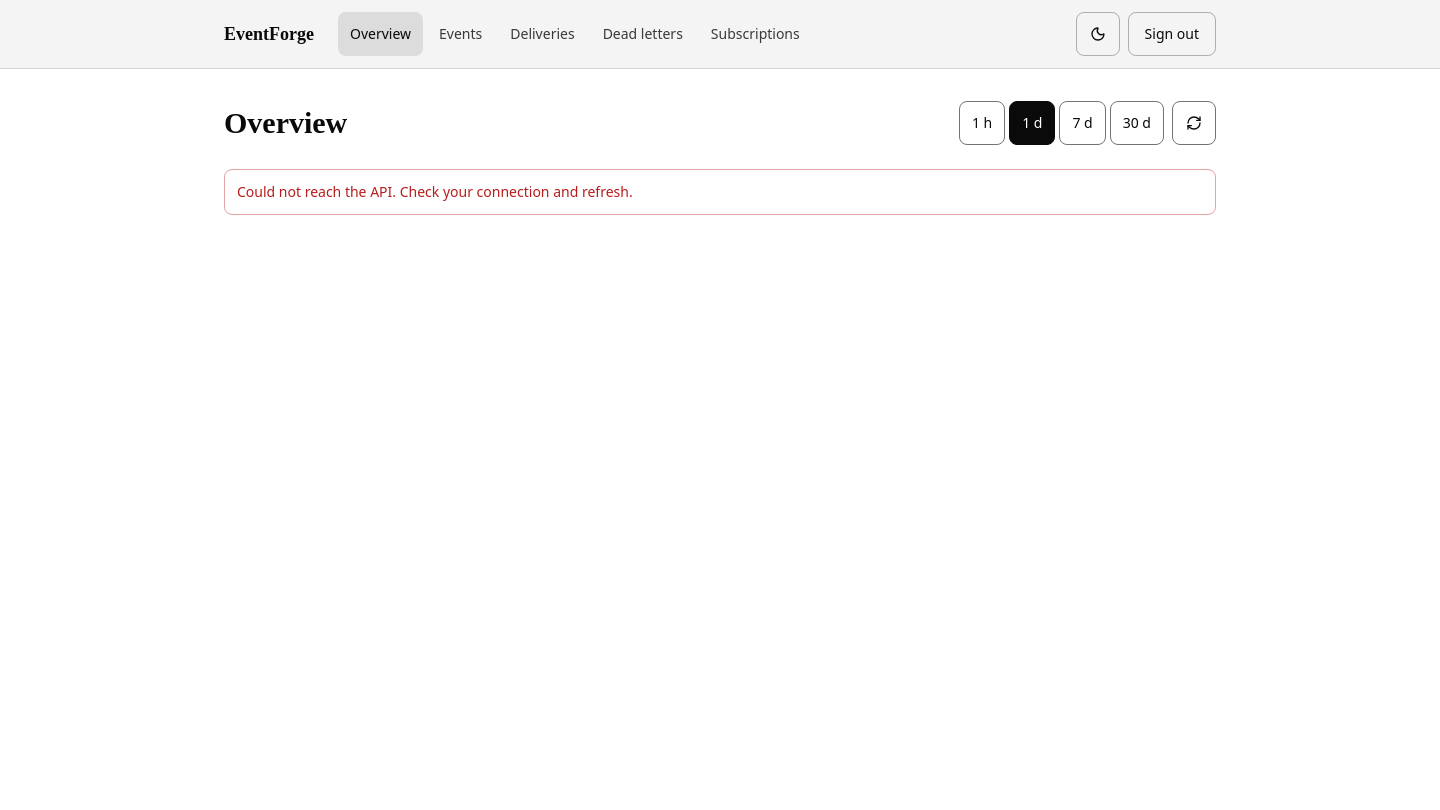
Test: Landing and login › skips the landing page when a key is already stored, and sign-out clears it
This screenshot has width=1440, height=810.
Expected: the heading "Overview" is shown, 224,105 -> 347,141
Click the button "Sign out": (1172,34) 1128,12 -> 1216,56
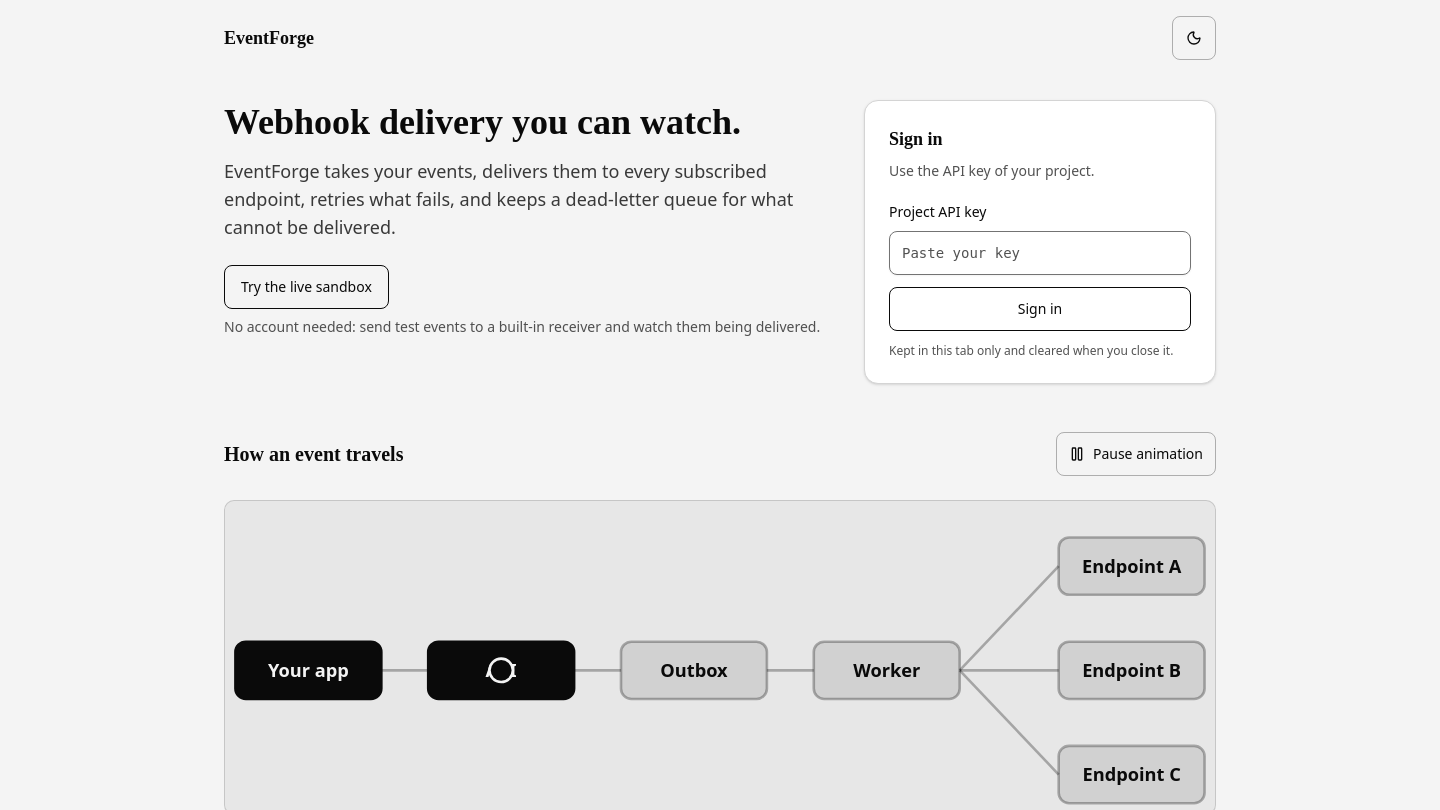
Expected: the password field labelled "Project API key" is shown, 889,231 -> 1191,275
